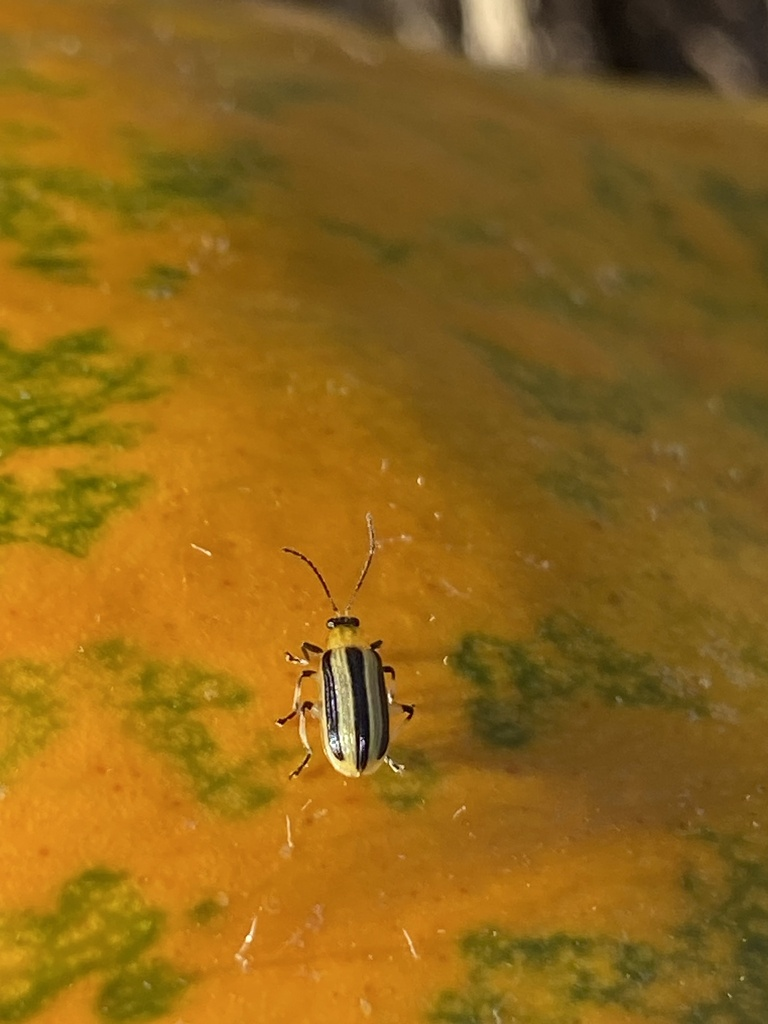potato_beetle: (202, 460, 487, 863)
